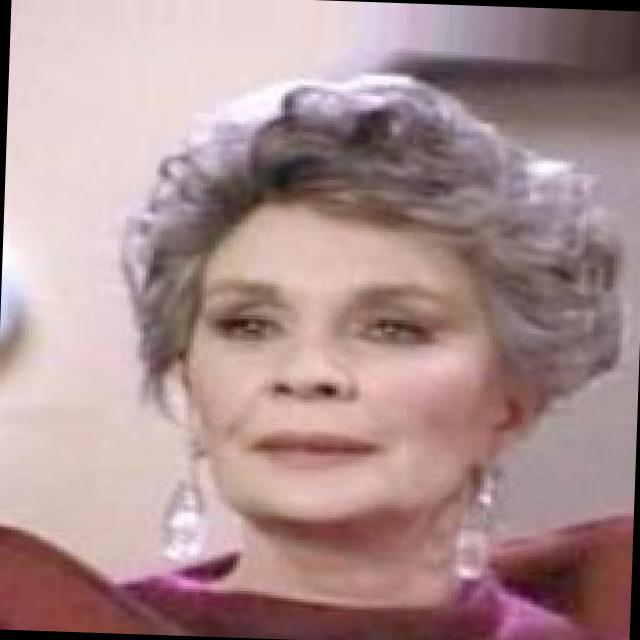bareface: (150, 190, 530, 550)
